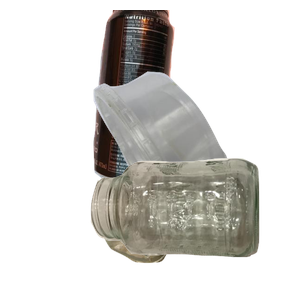glass: (88, 156, 300, 300)
metal: (91, 10, 258, 188)
plastic: (91, 69, 300, 249)
trash: (99, 155, 268, 300)
